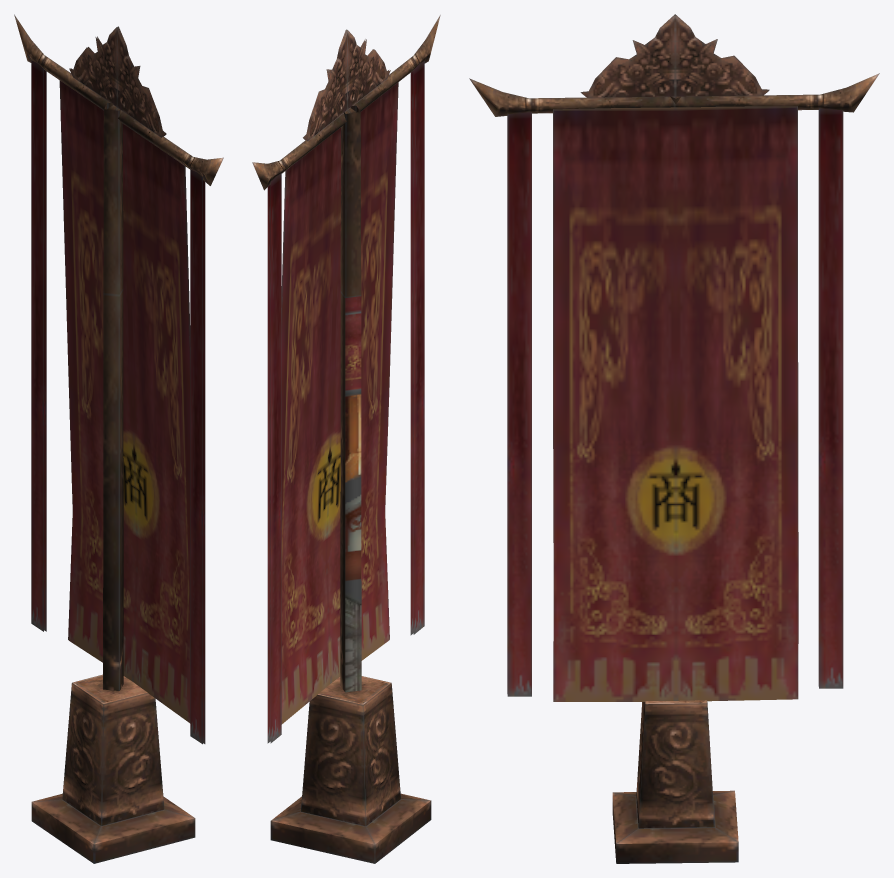
Rendered from cj_luoyang_qizi01_56_06_9502out.fbx.
3 renders of one model, left to right at view 1: azimuth 30°, elevation 25°; view 2: azimuth 150°, elevation 25°; view 3: azimuth 270°, elevation 25°, orthographic. The views are drawn at different scales.
Parts seen in each view (by area): view 1: cj_luoyang_qizi01; view 2: cj_luoyang_qizi01; view 3: cj_luoyang_qizi01.
Part boxes in pixels (left/top/right/bottom): cj_luoyang_qizi01: left=14, top=14, right=223, bottom=863; cj_luoyang_qizi01: left=252, top=15, right=440, bottom=863; cj_luoyang_qizi01: left=469, top=14, right=879, bottom=863.
Bounding box in the file's own units: 0.8241 × 5.95 × 2.69.
